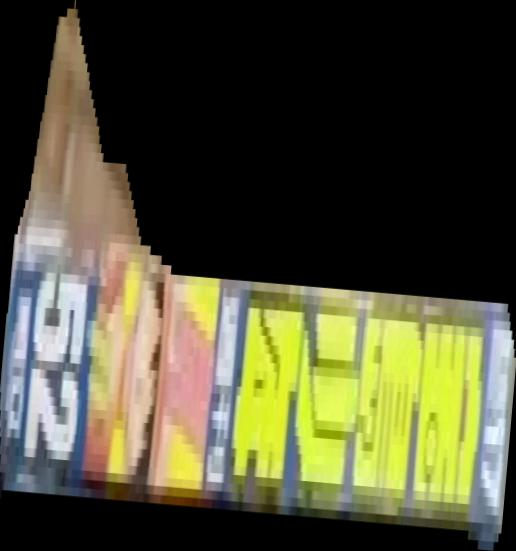flat: (1, 1, 516, 551)
